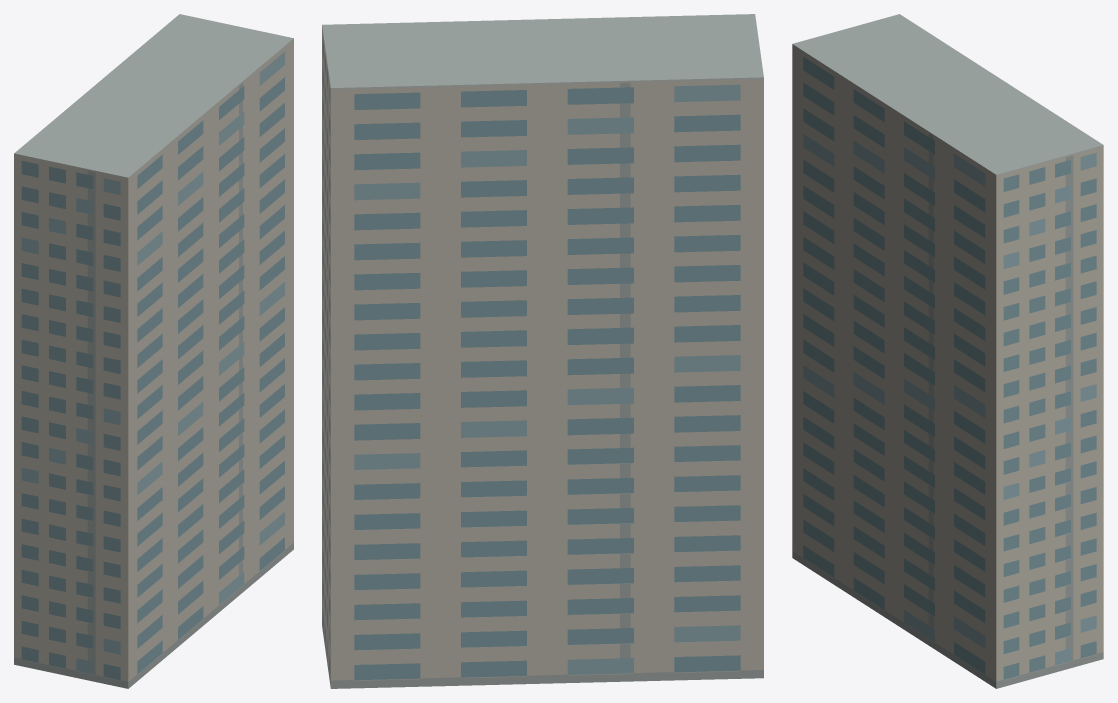
Rendered from residential-852514aa-6b3a-4698-a7d9-9e8a1ec62ee3.glb.
The picture shows the model from 3 angles, left to right: view 1: azimuth 30°, elevation 25°; view 2: azimuth 150°, elevation 25°; view 3: azimuth 270°, elevation 25°; orthographic projection. The views are drawn at different scales.
Visible parts, largest first — view 1: residential-852514aa-6b3a-4698-a7d9-9e8a1ec62ee3.tmp; view 2: residential-852514aa-6b3a-4698-a7d9-9e8a1ec62ee3.tmp; view 3: residential-852514aa-6b3a-4698-a7d9-9e8a1ec62ee3.tmp.
Part boxes in pixels (x1,y1,x2,y2): residential-852514aa-6b3a-4698-a7d9-9e8a1ec62ee3.tmp: (14, 14, 293, 688); residential-852514aa-6b3a-4698-a7d9-9e8a1ec62ee3.tmp: (322, 14, 763, 688); residential-852514aa-6b3a-4698-a7d9-9e8a1ec62ee3.tmp: (792, 14, 1103, 688).
Bounding box in the file's own units: 50.35 × 75 × 41.2.
